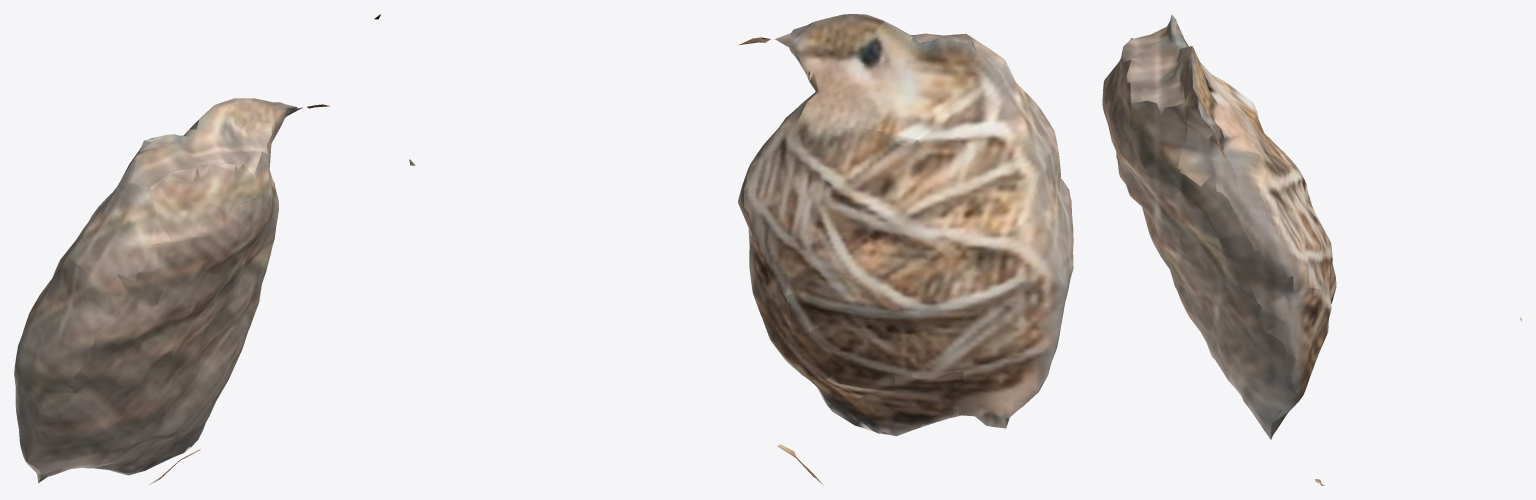
The model's file is 20_55_34_19_a-single-preserved-hummingbird-nest.glb.
3 renders of one model, left to right at view 1: azimuth 30°, elevation 25°; view 2: azimuth 150°, elevation 25°; view 3: azimuth 270°, elevation 25°, orthographic. The views are drawn at different scales.
Parts seen in each view (by area): view 1: world; view 2: world; view 3: world.
Boxes of the visible parts, x1,y1,x2,y2 form: world: (14,14,380,484); world: (409,14,1073,485); world: (1102,14,1521,485).
Bounding box in the file's own units: 0.5357 × 0.4244 × 0.3644.
1 material, 1 textured.
